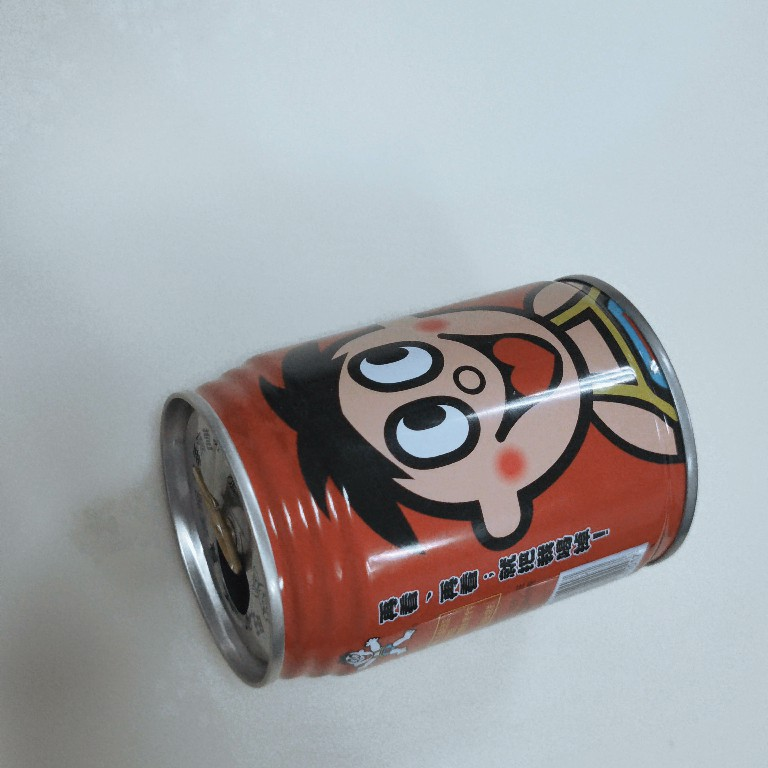can: (155, 272, 703, 692)
